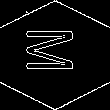M_E: (26, 32, 84, 78)
